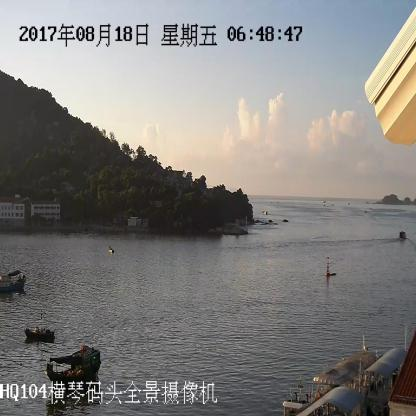Fishing Boat: (46, 350, 100, 378), (24, 324, 56, 343), (0, 274, 27, 291)
